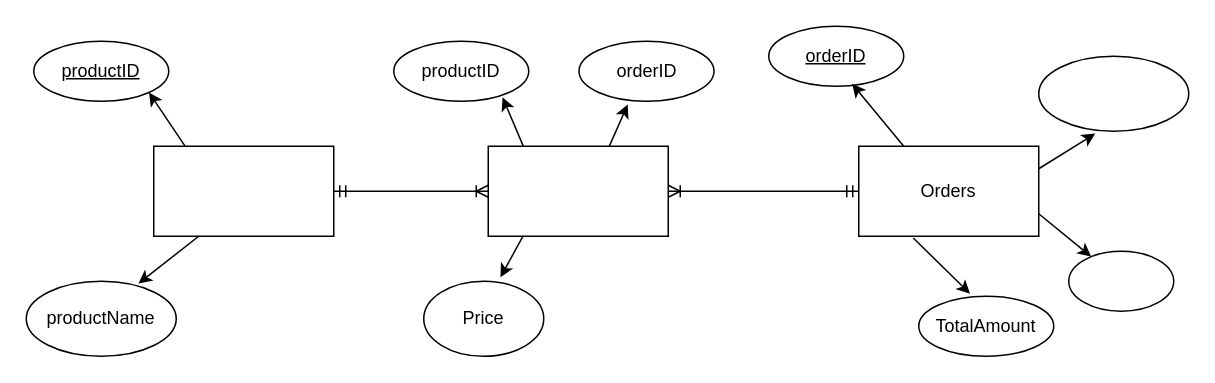
This 1215x383 diagram has some shape labels left out. The centre of each missing label's shape, as x and y in pixels:
Order-Items: the point at 577,190
orderDate: the point at 1120,280
Products: the point at 243,190
Quantity: the point at 1113,93
